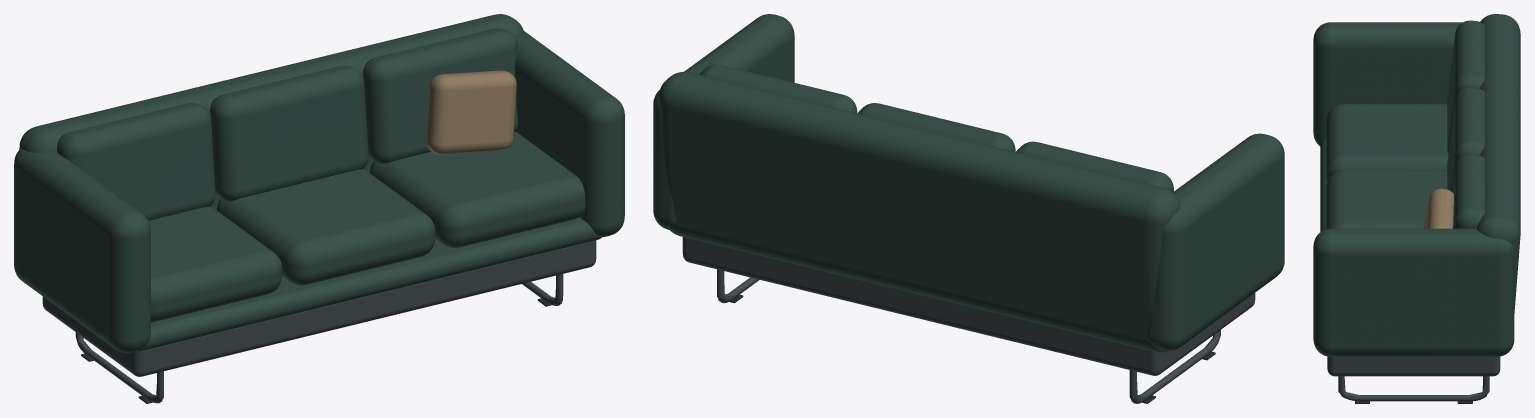
The model's file is sofa.gltf.
3 views of the same model, side by side, from view 1: azimuth 30°, elevation 25°; view 2: azimuth 150°, elevation 25°; view 3: azimuth 270°, elevation 25° (orthographic). The views are drawn at different scales.
Visible parts, largest first — view 1: Individual back pad (×6), Individual seat cushion (×3), Padded armrest (×2), Structural deck, Upholstered deck, Lumbar pillow (×2), Upholstered back (×2), Continuous steel sled; view 2: Upholstered back, Padded armrest (×2), Structural deck, Individual back pad (×3), Continuous steel sled; view 3: Padded armrest (×2), Individual seat cushion (×2), Upholstered back, Individual back pad (×5), Structural deck, Continuous steel sled (×2), Lumbar pillow, Upholstered deck.
Boxes of the visible parts, x1,y1,x2,y2 form: Individual back pad (×6): (57, 28, 517, 220); Individual seat cushion (×3): (148, 131, 585, 322); Padded armrest (×2): (14, 31, 624, 352); Structural deck: (42, 240, 596, 376); Upholstered deck: (136, 217, 601, 351); Lumbar pillow (×2): (426, 70, 516, 154); Upholstered back (×2): (19, 14, 524, 209); Continuous steel sled: (75, 332, 163, 403); Upholstered back: (658, 71, 1180, 352); Padded armrest (×2): (653, 14, 1284, 350); Structural deck: (682, 237, 1255, 375); Individual back pad (×3): (699, 64, 1173, 192); Continuous steel sled: (1129, 330, 1220, 403); Padded armrest (×2): (1313, 22, 1514, 356); Individual seat cushion (×2): (1326, 104, 1448, 229); Upholstered back: (1477, 14, 1520, 357); Individual back pad (×5): (1447, 20, 1484, 228); Structural deck: (1327, 356, 1500, 376); Continuous steel sled (×2): (1338, 376, 1489, 401); Lumbar pillow: (1423, 188, 1453, 228); Upholstered deck: (1320, 139, 1327, 231).
Size of what is drawn, in the model's own units: 2.26 by 0.9433 by 0.886.
5 materials, 2 textured.
